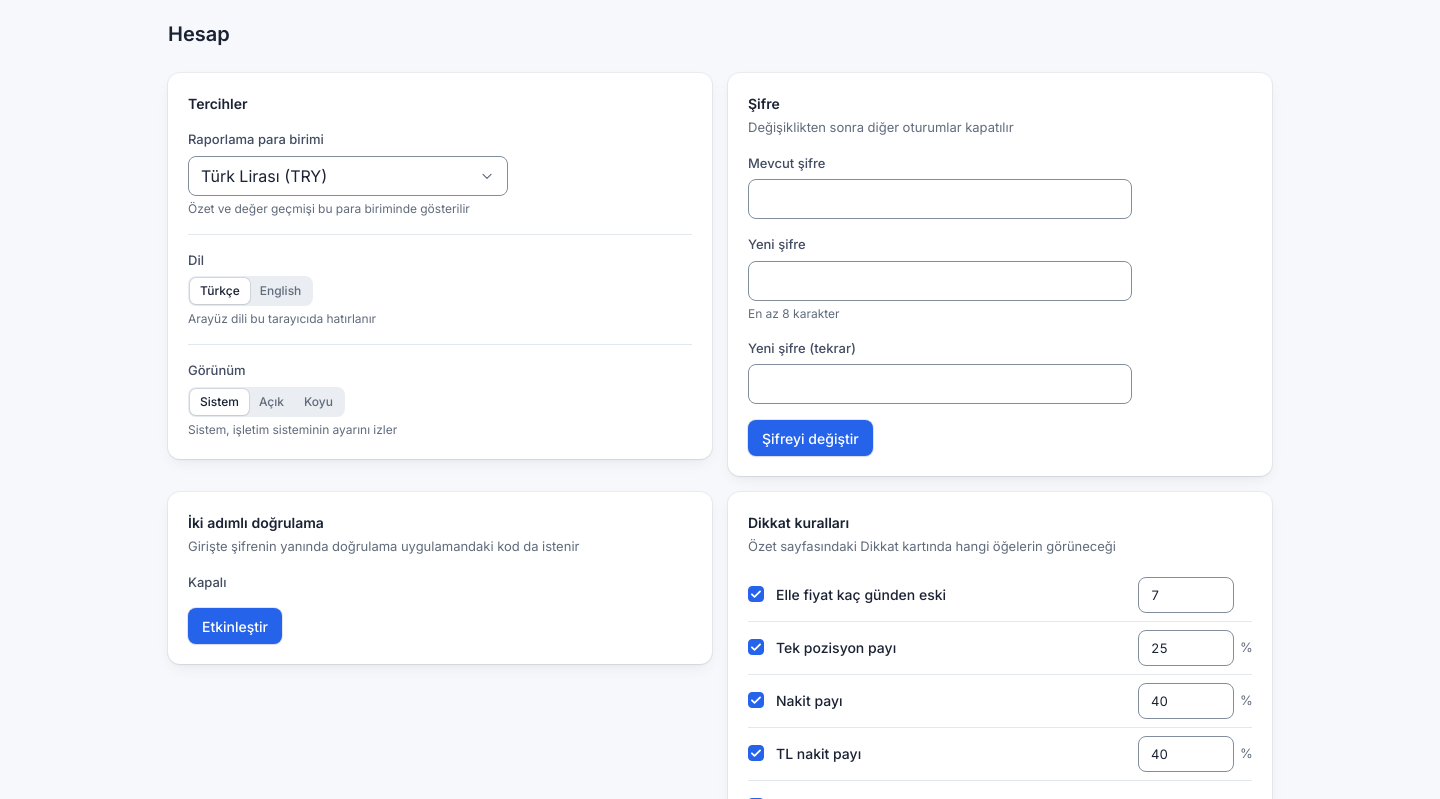
Test: AccountPage › sends only the changed attention rule on save
The width and height of the screenshot is (1440, 799).
Replace the text in the number field named "Nakit payı" with "55" at {"x": 1186, "y": 700}, box left=1138, top=682, right=1234, bottom=718
(page scrolled)
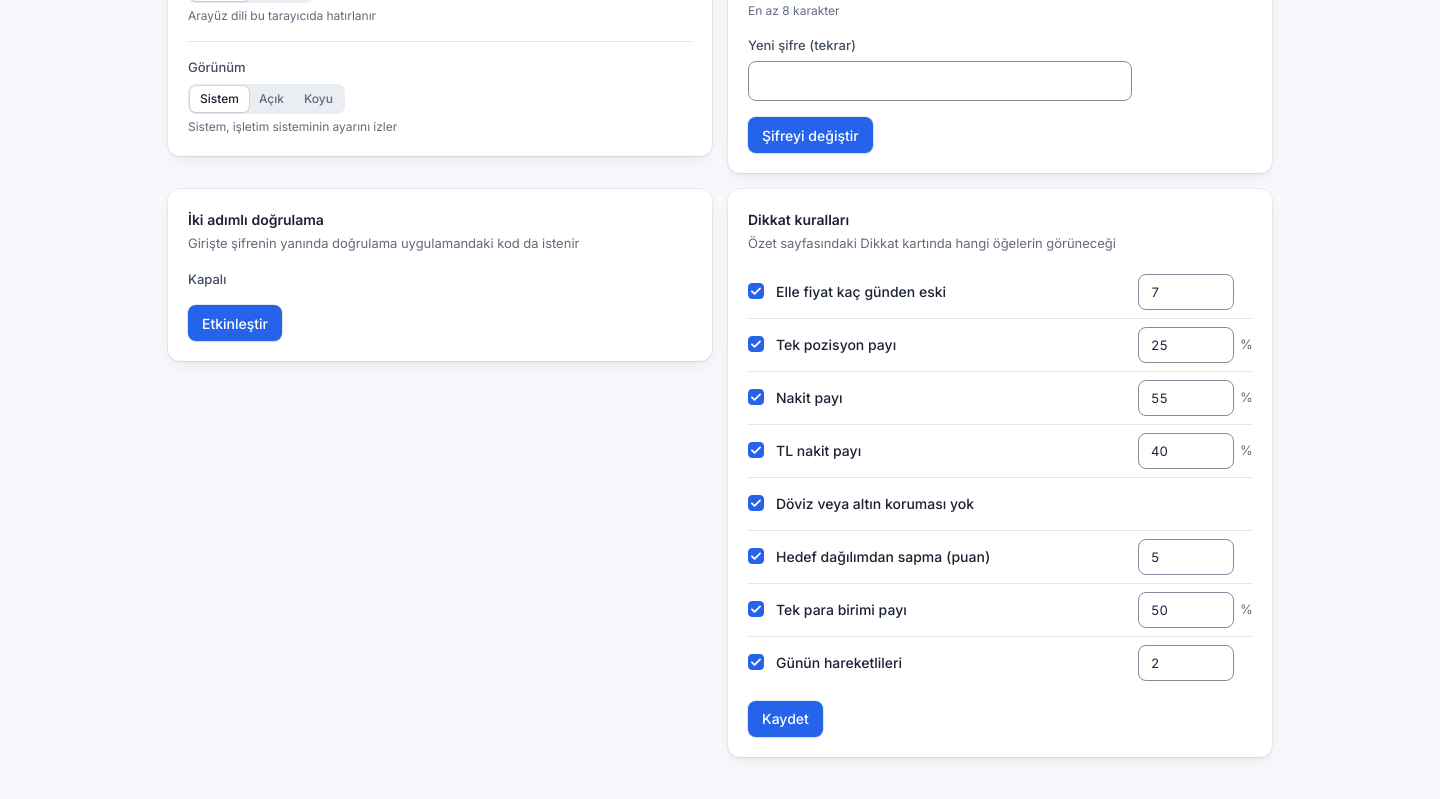
Click the button "Kaydet" at {"x": 785, "y": 718}, box left=748, top=700, right=823, bottom=736
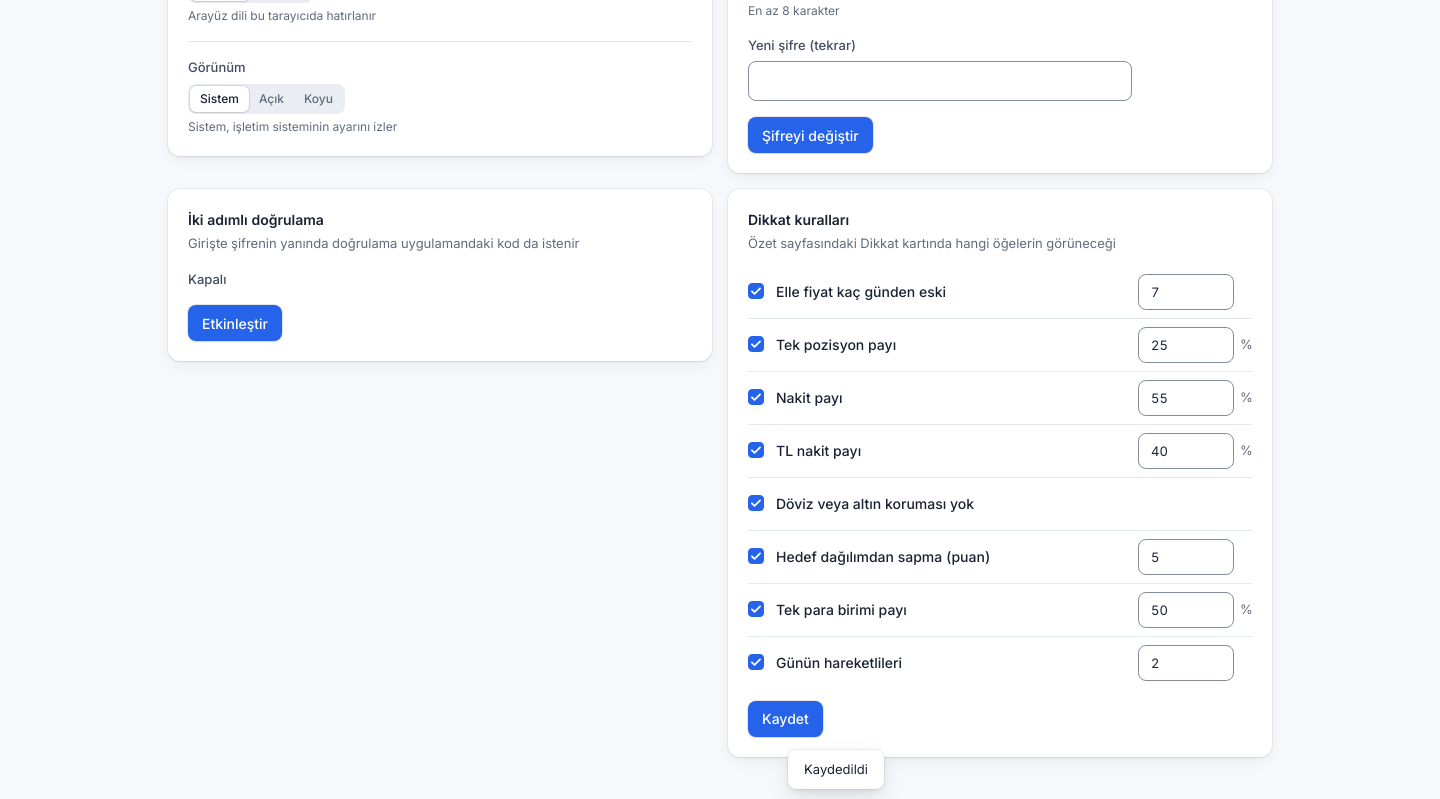
Result: the text "Kaydedildi" is shown at left=804, top=760, right=868, bottom=779
